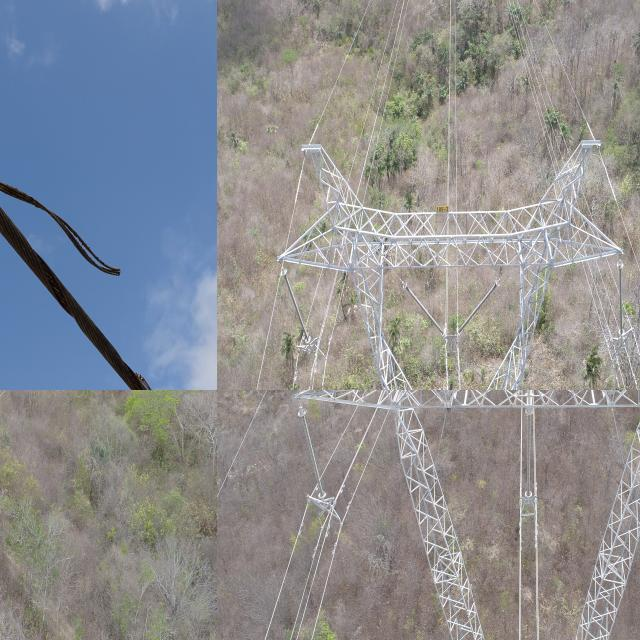杆塔: (272, 129, 631, 390), (297, 390, 640, 640)
正常绝缘子: (292, 402, 333, 513), (454, 275, 502, 338), (401, 278, 447, 340), (280, 266, 313, 349), (520, 390, 539, 506), (616, 257, 626, 341)
电缆破损: (0, 131, 217, 390)
